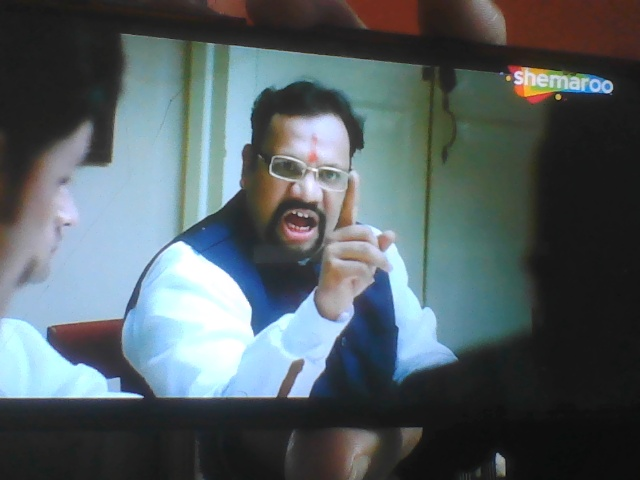fake: (227, 82, 360, 270)
